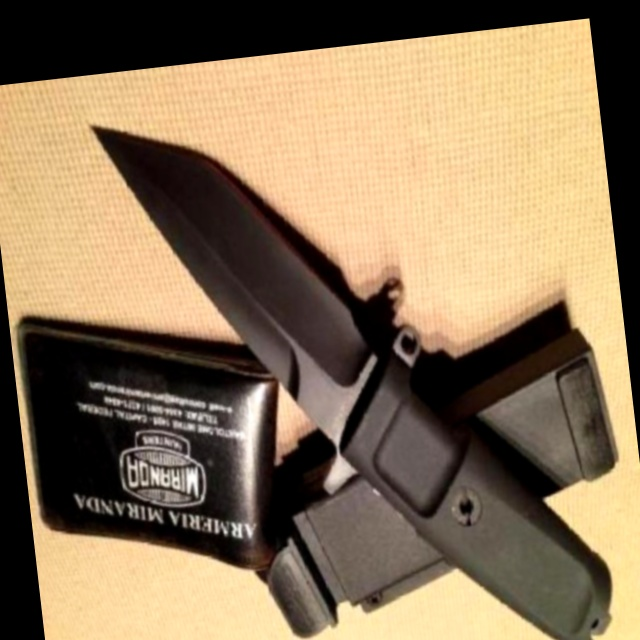Sharp-Object: (91, 73, 618, 640)
